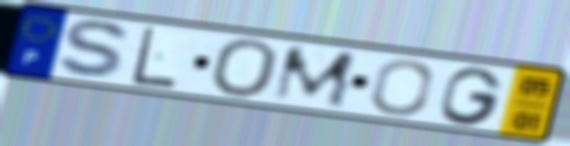G: (437, 65, 507, 127)
L: (129, 24, 180, 91)
M: (268, 44, 359, 110)
O: (207, 37, 282, 100), (367, 58, 436, 117)
S: (54, 18, 136, 82)
